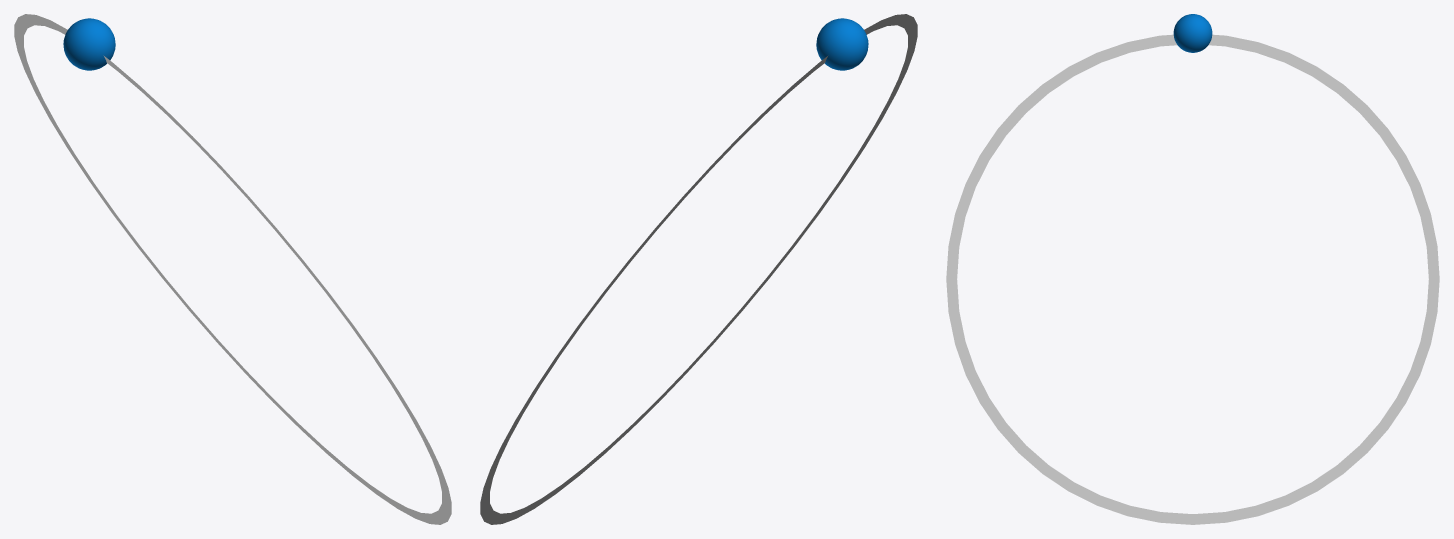
The model's file is atom-4.glb.
3 views of the same model, side by side, from view 1: azimuth 30°, elevation 25°; view 2: azimuth 150°, elevation 25°; view 3: azimuth 270°, elevation 25° (orthographic). The views are drawn at different scales.
Parts seen in each view (by area): view 1: BezierCircle.002, Sphere.003; view 2: BezierCircle.002, Sphere.003; view 3: BezierCircle.002, Sphere.003.
Part boxes in pixels (x1,y1,x2,y2): BezierCircle.002: (14, 14, 451, 524); Sphere.003: (63, 18, 115, 70); BezierCircle.002: (480, 14, 917, 524); Sphere.003: (816, 18, 868, 70); BezierCircle.002: (946, 34, 1439, 524); Sphere.003: (1173, 14, 1212, 52).
Size of the model in its own units: 4.1 by 6.88 by 7.6.
